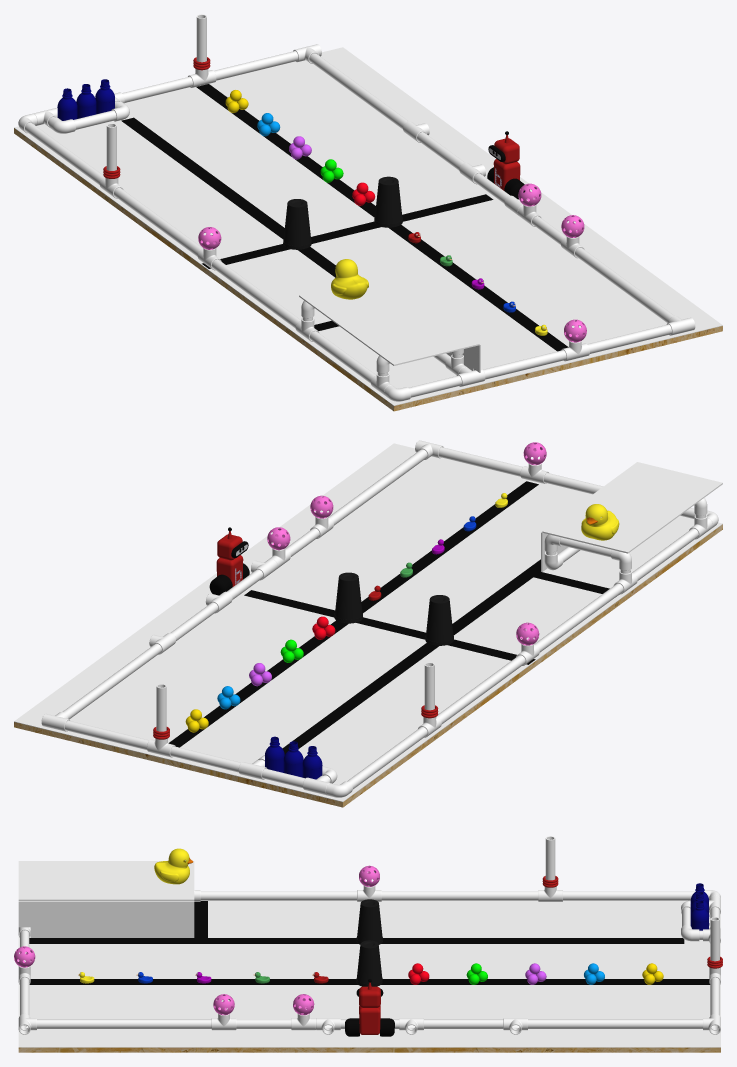
The model's file is Fall_Game_Table.glb.
3 views of the same model, one above another, from view 1: azimuth 30°, elevation 25°; view 2: azimuth 150°, elevation 25°; view 3: azimuth 270°, elevation 25° (orthographic). The views are drawn at different scales.
Parts seen in each view (by area): view 1: FRP - 4x8-1 - Part, 12.5x24 No Holes-3 - Part, Particle board - 4x8-1 - Part, Black duct tape 93.5 in-2 - Part, Black duct tape 89.5 in-1 - Part, Black duct tape 41.5 in-1 - Part, 25.875 inch pvc-1 - Part, 25.875 inch pvc-3 - Part, Cup - Black-2 - Part, Cup - Black-1 - Part, 23.375 inch pvc-3 - Part, 23.375 inch pvc-1 - Part (+7 smaller); view 2: FRP - 4x8-1 - Part, 12.5x24 No Holes-3 - Part, Particle board - 4x8-1 - Part, Black duct tape 93.5 in-2 - Part, Black duct tape 89.5 in-1 - Part, Black duct tape 41.5 in-1 - Part, 25.875 inch pvc-1 - Part, 25.875 inch pvc-3 - Part, Cup - Black-2 - Part, Cup - Black-1 - Part, 23.375 inch pvc-3 - Part, 23.375 inch pvc-1 - Part (+7 smaller); view 3: FRP - 4x8-1 - Part, 5.5x24-1 - Part, 12.5x24 No Holes-3 - Part, Particle board - 4x8-1 - Part, Black duct tape 89.5 in-1 - Part, Black duct tape 93.5 in-2 - Part, 25.875 inch pvc-1 - Part, 25.875 inch pvc-3 - Part, 23.375 inch pvc-3 - Part, 23.375 inch pvc-1 - Part, 21.125 inch pvc-1 - Part, Cup - Black-2 - Part (+19 smaller).
Part boxes in pixels (x1,y1,x2,y2): FRP - 4x8-1 - Part: [14, 47, 722, 405]; 12.5x24 No Holes-3 - Part: [299, 274, 479, 365]; Particle board - 4x8-1 - Part: [14, 128, 722, 411]; Black duct tape 93.5 in-2 - Part: [196, 84, 568, 351]; Black duct tape 89.5 in-1 - Part: [121, 117, 474, 370]; Black duct tape 41.5 in-1 - Part: [202, 194, 493, 268]; 25.875 inch pvc-1 - Part: [575, 247, 674, 323]; 25.875 inch pvc-3 - Part: [309, 53, 408, 129]; Cup - Black-2 - Part: [374, 176, 402, 227]; Cup - Black-1 - Part: [283, 199, 311, 249]; 23.375 inch pvc-3 - Part: [114, 187, 203, 256]; 23.375 inch pvc-1 - Part: [211, 259, 301, 328]; FRP - 4x8-1 - Part: [14, 443, 722, 801]; 12.5x24 No Holes-3 - Part: [542, 462, 722, 553]; Particle board - 4x8-1 - Part: [14, 524, 722, 807]; Black duct tape 93.5 in-2 - Part: [168, 481, 538, 747]; Black duct tape 89.5 in-1 - Part: [282, 559, 540, 754]; Black duct tape 41.5 in-1 - Part: [244, 590, 535, 664]; 25.875 inch pvc-1 - Part: [328, 449, 427, 525]; 25.875 inch pvc-3 - Part: [62, 643, 161, 719]; Cup - Black-2 - Part: [334, 572, 362, 623]; Cup - Black-1 - Part: [425, 595, 453, 645]; 23.375 inch pvc-3 - Part: [437, 655, 525, 724]; 23.375 inch pvc-1 - Part: [534, 583, 623, 652]; FRP - 4x8-1 - Part: [18, 900, 720, 1047]; 5.5x24-1 - Part: [18, 901, 194, 937]; 12.5x24 No Holes-3 - Part: [18, 861, 194, 900]; Particle board - 4x8-1 - Part: [18, 1047, 720, 1052]; Black duct tape 89.5 in-1 - Part: [29, 938, 684, 943]; Black duct tape 93.5 in-2 - Part: [29, 979, 709, 984]; 25.875 inch pvc-1 - Part: [37, 1019, 211, 1028]; 25.875 inch pvc-3 - Part: [528, 1019, 702, 1028]; 23.375 inch pvc-3 - Part: [381, 891, 538, 900]; 23.375 inch pvc-1 - Part: [200, 891, 356, 900]; 21.125 inch pvc-1 - Part: [563, 891, 695, 900]; Cup - Black-2 - Part: [356, 940, 382, 986].
Size of the model in its own units: 1.24 by 0.2771 by 2.46.
Materials: 146 (6 with a texture image).
